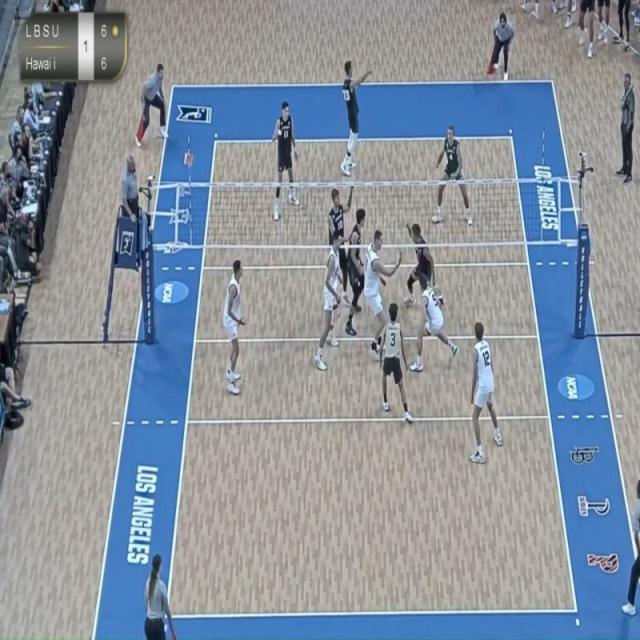volleyball: (434, 286, 449, 312)
